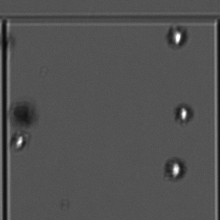Dead Cell: (7, 98, 39, 125)
Living Cell: (159, 155, 190, 182), (169, 99, 199, 126), (164, 23, 191, 48), (10, 130, 34, 154)
